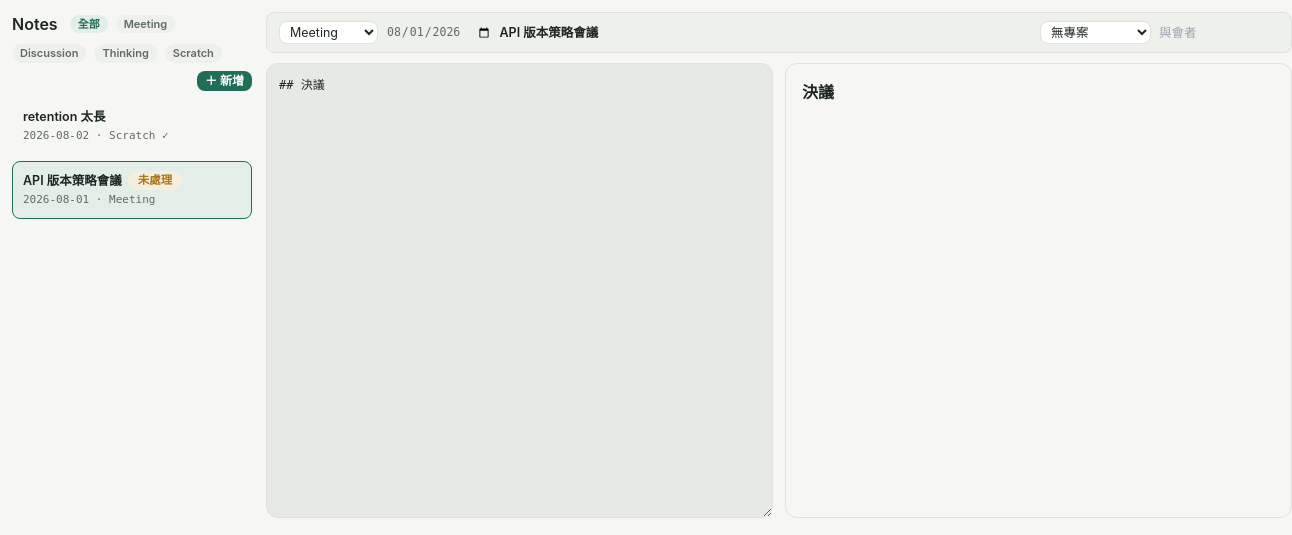
it: Notes › swaps the editor content when another note is selected
Expected: the text box showing "## 決議" is shown, [266,63,773,518]
Click the text "retention 太長".
click(64, 116)  # box [23,109,106,124]
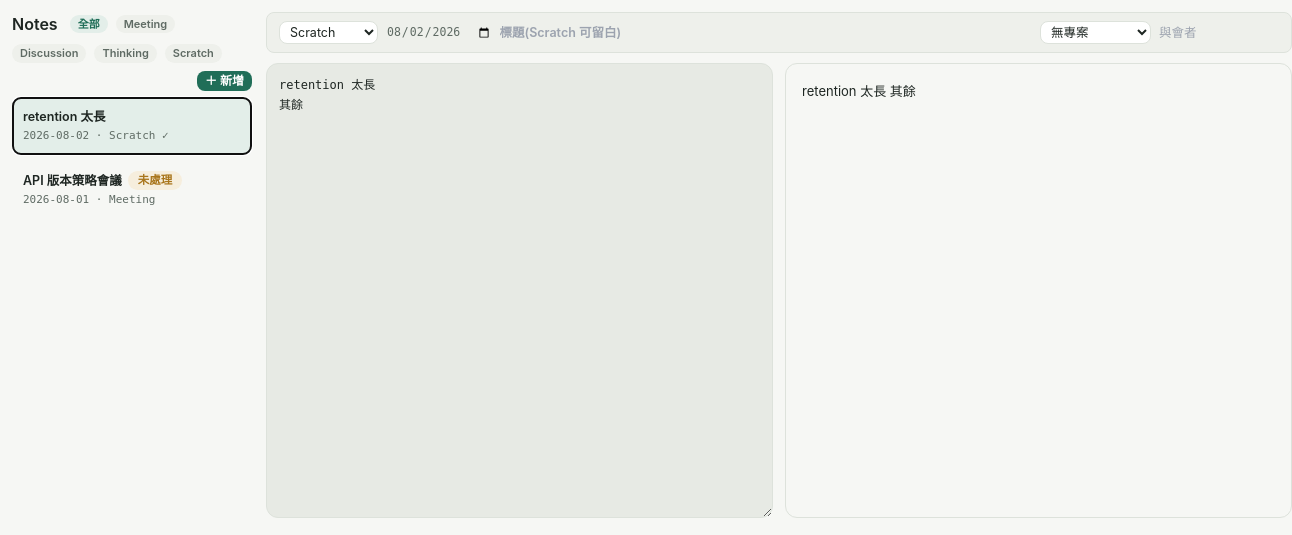
Expected: the field showing "## 決議" is not shown
Expected: the text box showing "內文" is shown, [266,63,773,518]
